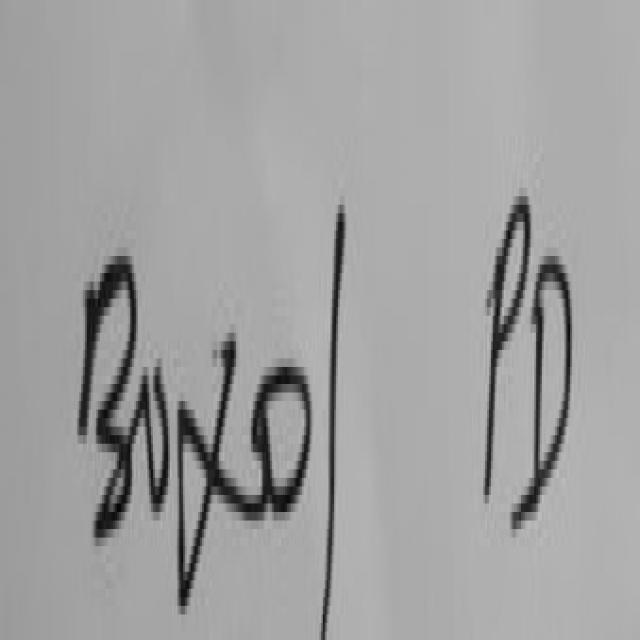B: (53, 183, 140, 640)
D: (532, 222, 577, 558)
P: (468, 144, 536, 516)
l: (318, 125, 358, 640)
o: (248, 292, 317, 560), (142, 315, 174, 550)
x: (174, 308, 248, 612)
